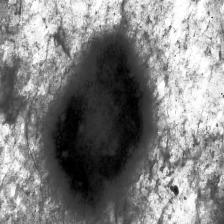Benign Marking or Mole: (49, 42, 149, 208)
